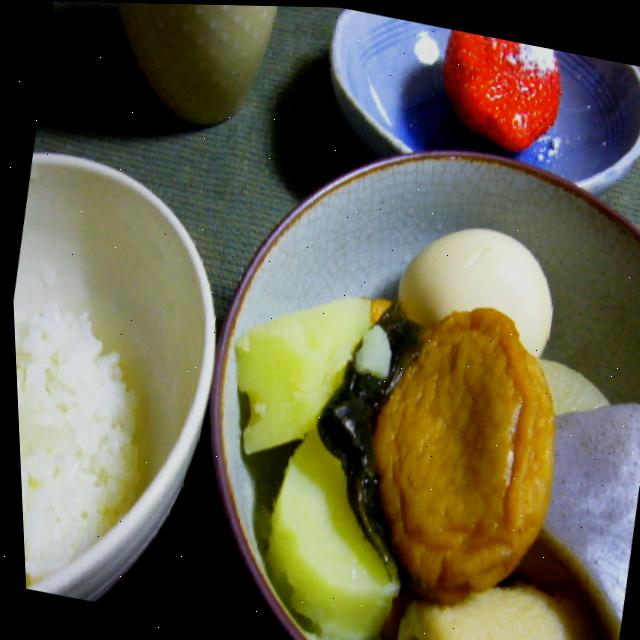汤锅炖物: (172, 170, 640, 640)
